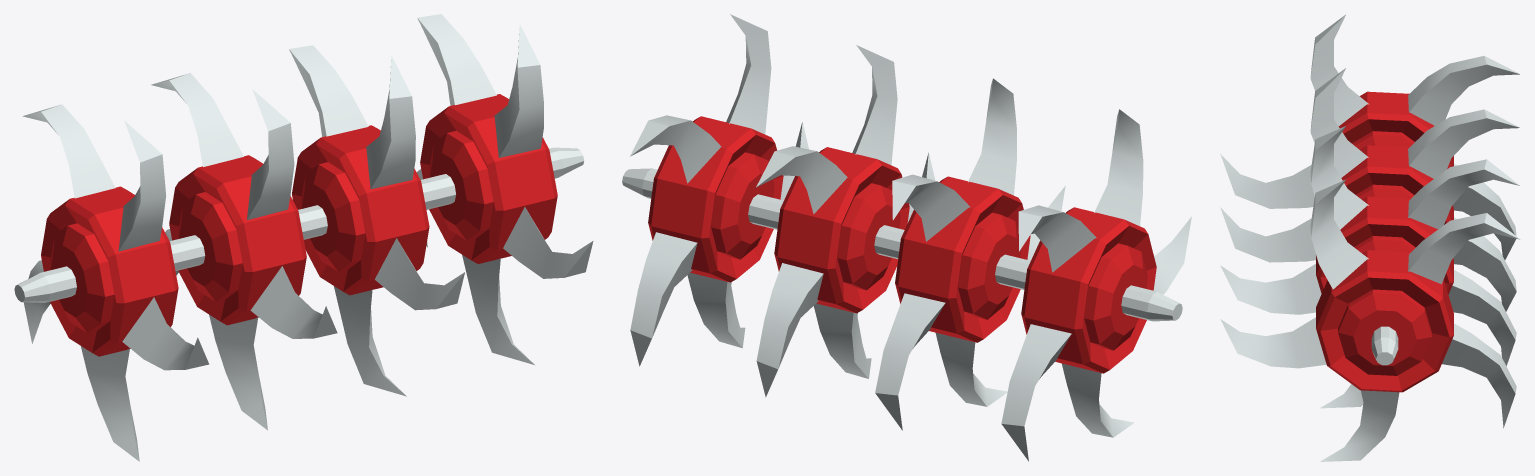
3 views of the same model, side by side, from view 1: azimuth 30°, elevation 25°; view 2: azimuth 150°, elevation 25°; view 3: azimuth 270°, elevation 25° (orthographic). The views are drawn at different scales.
Parts seen in each view (by area): view 1: Tooth_cylinder; view 2: Tooth_cylinder; view 3: Tooth_cylinder.
Boxes of the visible parts, left/top/right/bottom form: Tooth_cylinder: left=14, top=14, right=593, bottom=461; Tooth_cylinder: left=622, top=14, right=1191, bottom=461; Tooth_cylinder: left=1220, top=14, right=1520, bottom=461.
Bounding box in the file's own units: 4.28 × 2.41 × 2.33.
